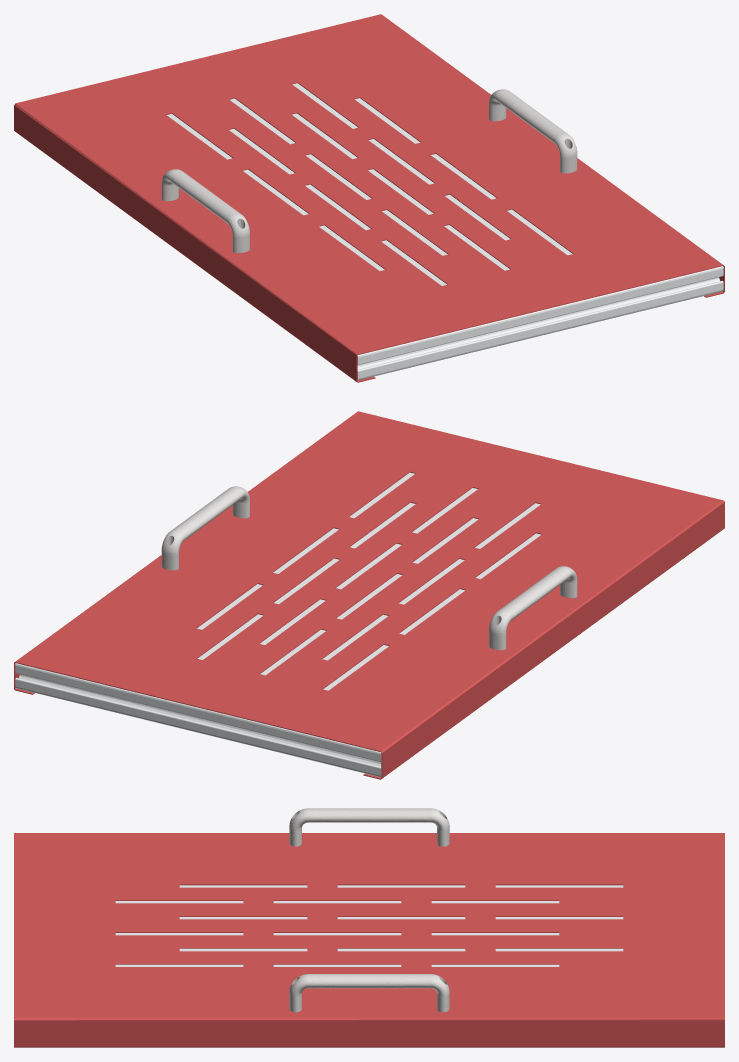
3 renders of one model, top to bottom at view 1: azimuth 30°, elevation 25°; view 2: azimuth 150°, elevation 25°; view 3: azimuth 270°, elevation 25°, orthographic. The views are drawn at different scales.
Parts seen in each view (by area): view 1: imagetostl_mesh1, imagetostl_mesh0, imagetostl_mesh3; view 2: imagetostl_mesh1, imagetostl_mesh0, imagetostl_mesh3; view 3: imagetostl_mesh1, imagetostl_mesh0, imagetostl_mesh3.
Part boxes in pixels (x1,y1,x2,y2): imagetostl_mesh1: (14, 14, 724, 382); imagetostl_mesh0: (167, 83, 723, 380); imagetostl_mesh3: (161, 89, 577, 253); imagetostl_mesh1: (14, 411, 724, 779); imagetostl_mesh0: (15, 472, 540, 777); imagetostl_mesh3: (161, 486, 577, 650); imagetostl_mesh1: (14, 833, 724, 1047); imagetostl_mesh0: (115, 885, 623, 966); imagetostl_mesh3: (289, 808, 449, 1012).
Size of the model in its own units: 58600 by 9170 by 94500.
